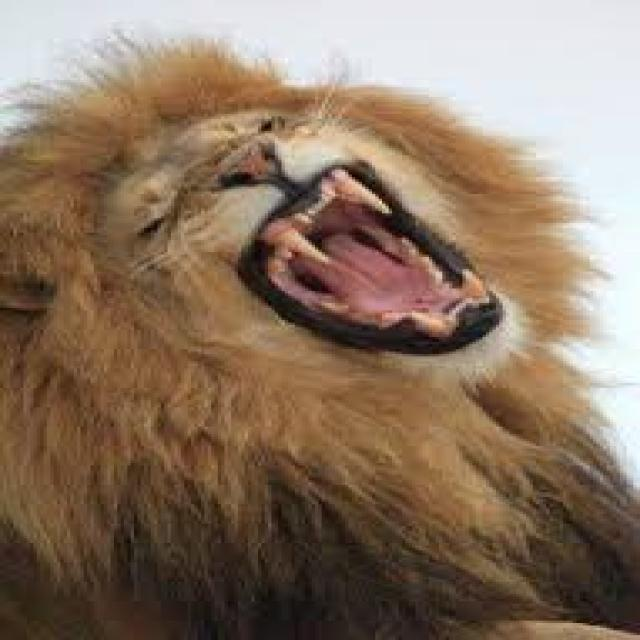Lion: (0, 32, 637, 638)
